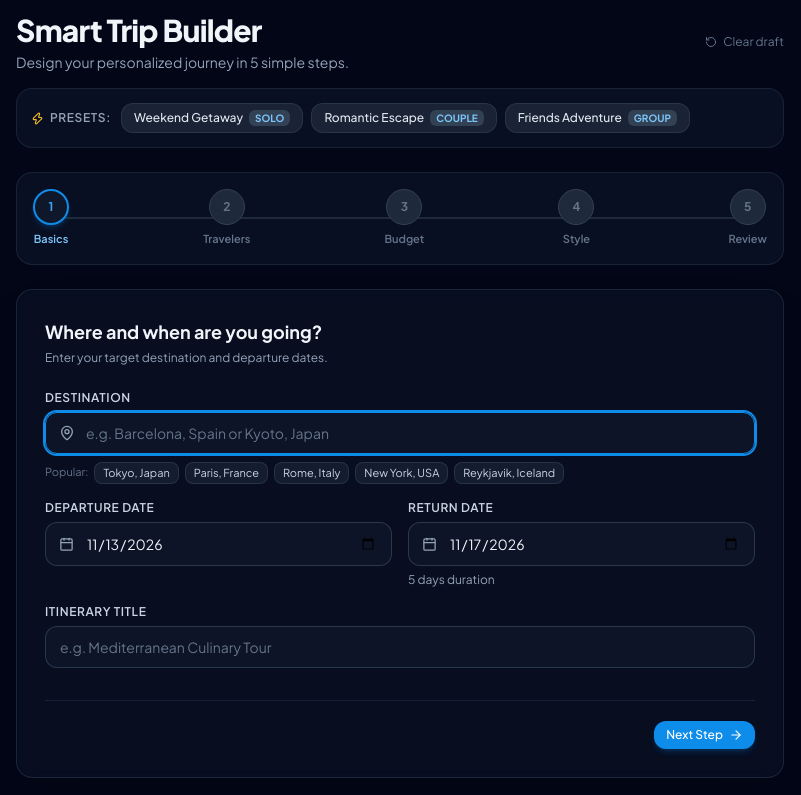
Smart Trip Builder Multi-Step Wizard › renders quick presets that configure travel options
This screenshot has width=801, height=795.
Check: the text "Weekend Getaway" is shown, box [134,110,243,126]
Check: the text "Romantic Escape" is shown, box [324,110,424,126]
Note: Clicking group preset updates state
Click the text "Friends Adventure".
click(570, 118)  # box [518,110,622,126]
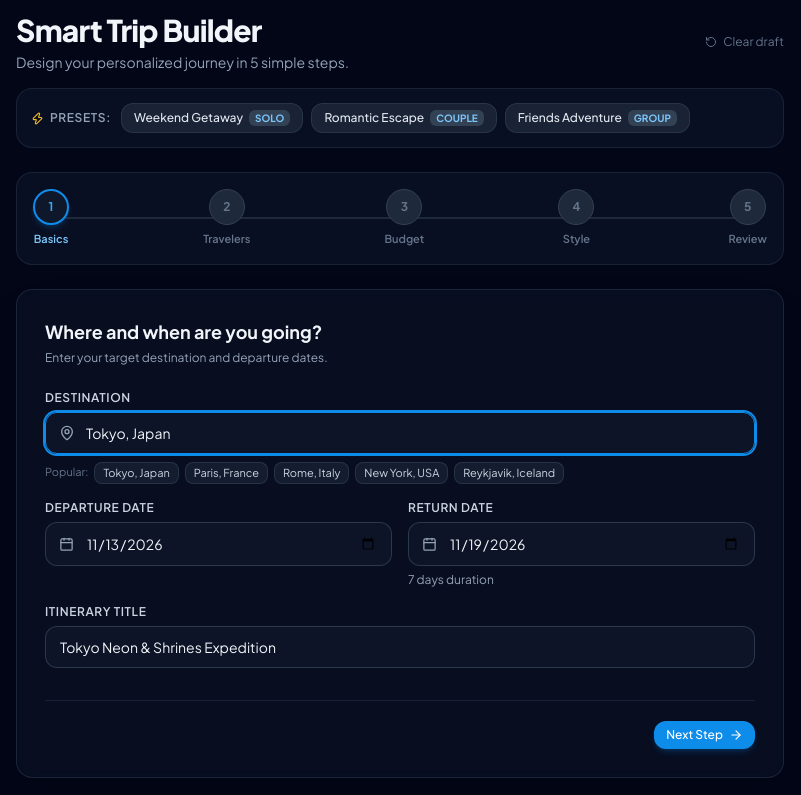
Check: the field showing "Tokyo Neon & Shrines Expedition" is shown, box [45,626,755,668]
Check: the field showing "Tokyo, Japan" is shown, box [45,412,755,454]
